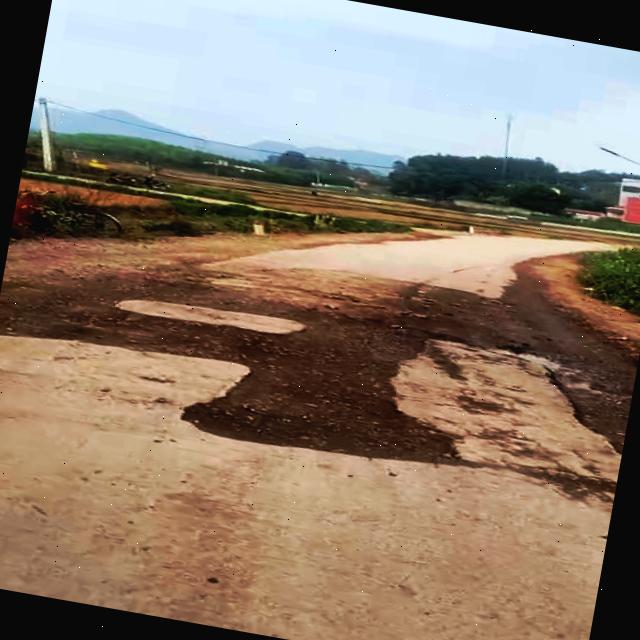pothole: (193, 319, 487, 477)
